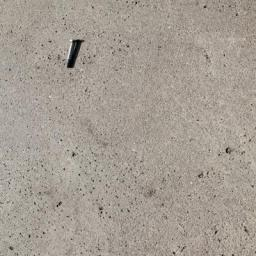FOD: (63, 35, 86, 76)
